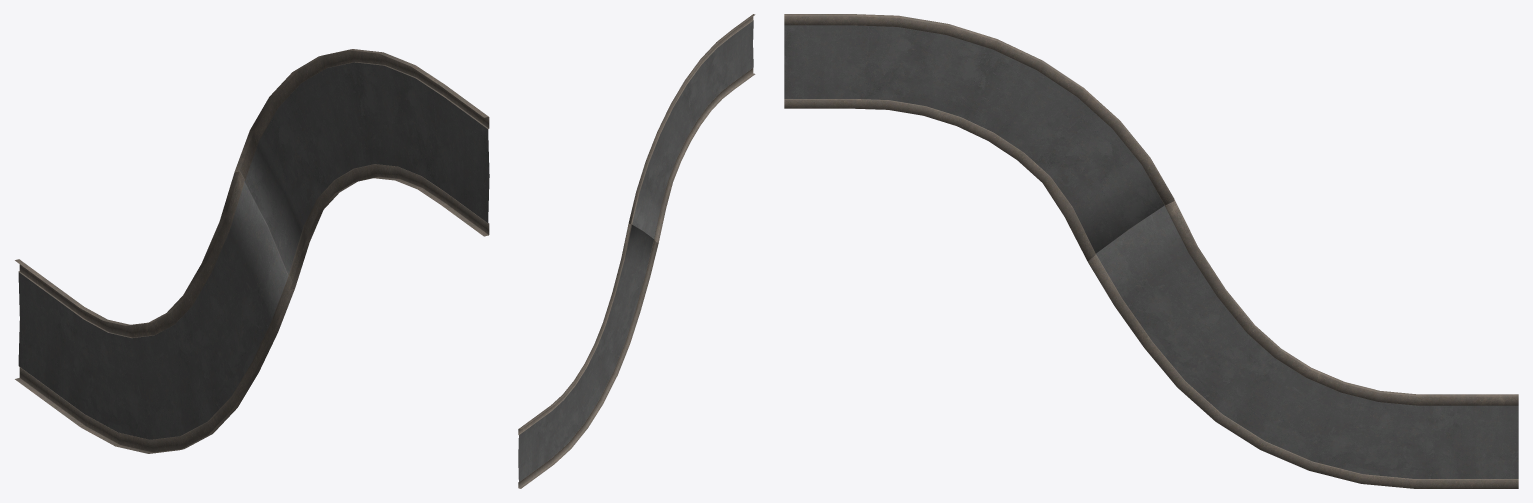
Rendered from cP_Pathway01_v02_sCurveReverse.dae.
3 renders of one model, left to right at view 1: azimuth 30°, elevation 25°; view 2: azimuth 150°, elevation 25°; view 3: azimuth 270°, elevation 25°, orthographic. The views are drawn at different scales.
Visible parts, largest first — view 1: cP_Pathway01_v02_sCurveReverse.001; view 2: cP_Pathway01_v02_sCurveReverse.001; view 3: cP_Pathway01_v02_sCurveReverse.001.
Part boxes in pixels (x1,y1,x2,y2): cP_Pathway01_v02_sCurveReverse.001: [15, 49, 489, 453]; cP_Pathway01_v02_sCurveReverse.001: [518, 14, 755, 488]; cP_Pathway01_v02_sCurveReverse.001: [784, 14, 1518, 488].
Bounding box in the file's own units: 0.0939 × 14 × 9.95.
